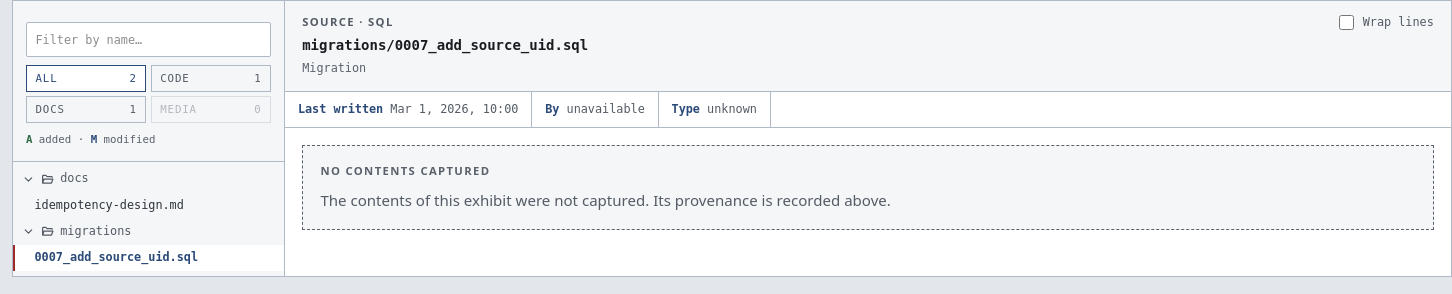
Test: S53: a filter that matches nothing keeps its own controls on screen rather than stranding the reader
The width and height of the screenshot is (1452, 294).
Type "nothingmatches" into the search field named "filter by filename".
click(148, 40); type("nothingmatches")  # box [26,22,271,57]
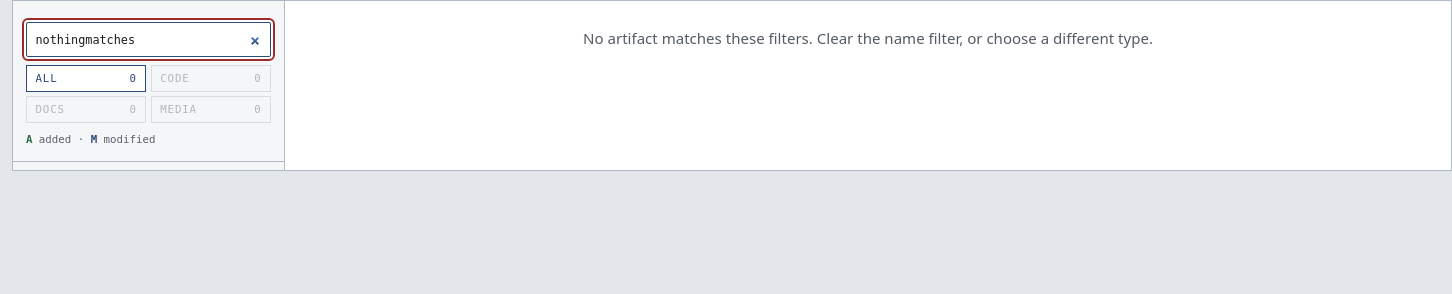
Check: the text "No artifact matches these filters" is shown, box [583,28,1153,48]
